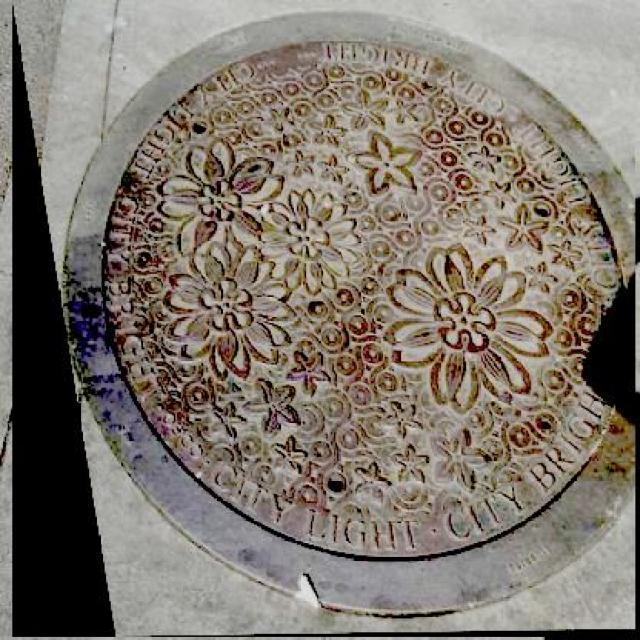Manhole: (12, 4, 636, 638)
